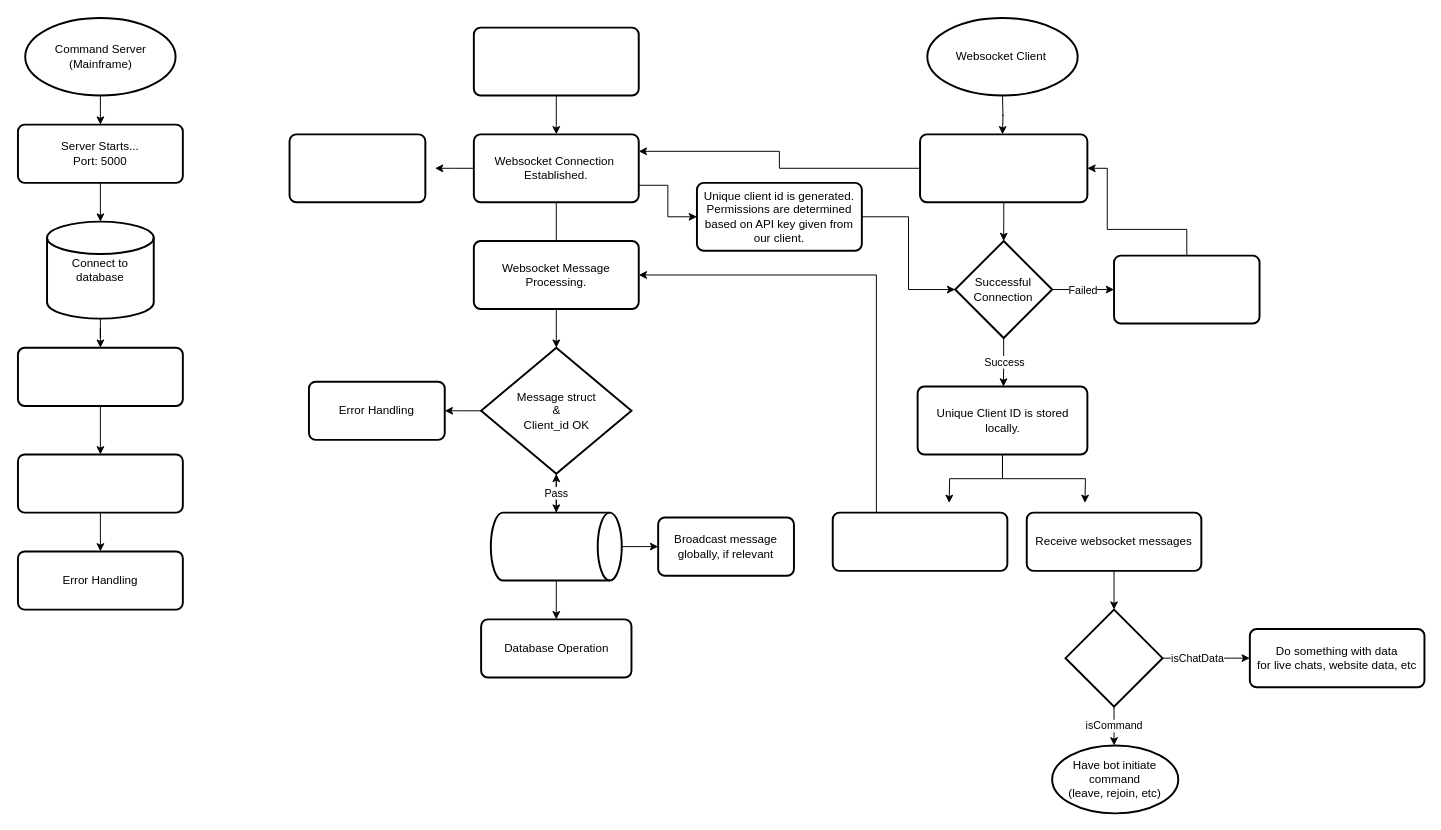
Some shapes in this 1441 by 830 pixel diagram are drawn without their labels. Here are the shapes that lost their labels. From the top down, the centre of each, then its label:
At pixel 555 61: "Listen for WS Connections".
At pixel 357 168: "Handle client disconnect (remove client from map)".
At pixel 1003 168: "Client is created with correct options".
At pixel 1186 289: "error handling. Perhaps retry connection".
At pixel 99 376: "Regular HTTP routes are loaded. websocket istening".
At pixel 99 483: "Possible Database Operation".
At pixel 555 546: "Websocket Message Data".
At pixel 919 541: "Send websocket messages".
At pixel 1113 657: "Message is command instruction?".
